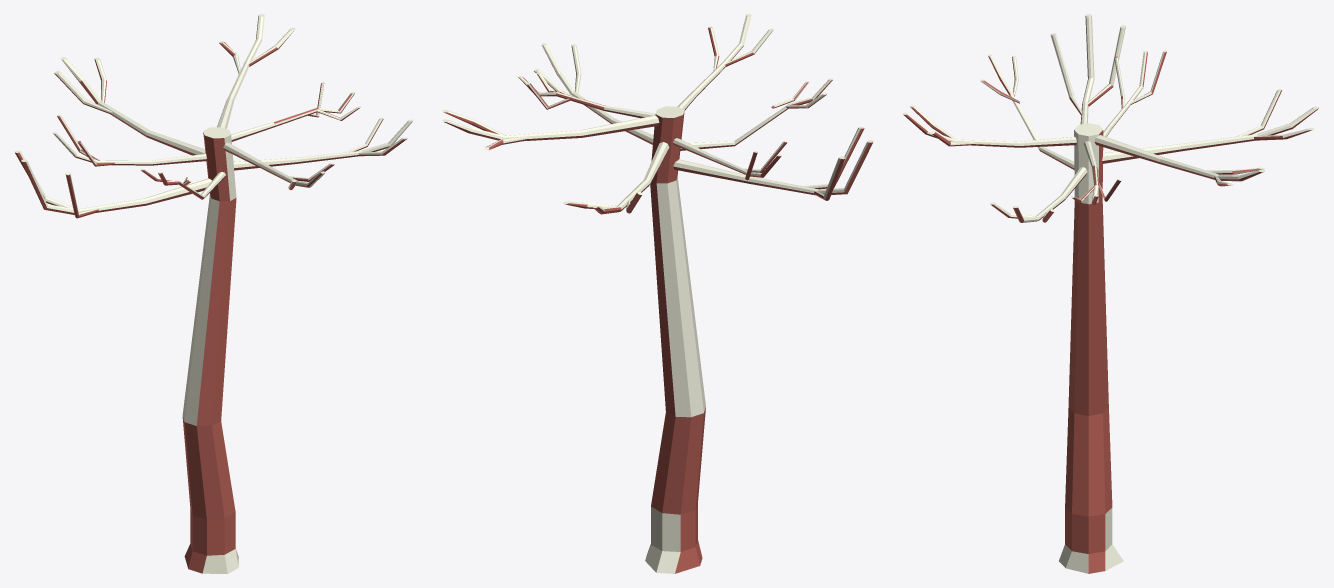
File: Tree4_winter.FBX
The picture shows the model from 3 angles, left to right: view 1: azimuth 30°, elevation 25°; view 2: azimuth 150°, elevation 25°; view 3: azimuth 270°, elevation 25°; orthographic projection. The views are drawn at different scales.
Parts seen in each view (by area): view 1: tree5.001; view 2: tree5.001; view 3: tree5.001.
Part boxes in pixels (left/top/right/bottom): tree5.001: left=14, top=14, right=413, bottom=573; tree5.001: left=442, top=14, right=873, bottom=573; tree5.001: left=902, top=14, right=1319, bottom=573.
Size of the model in its own units: 4.34 by 5.28 by 4.37.
